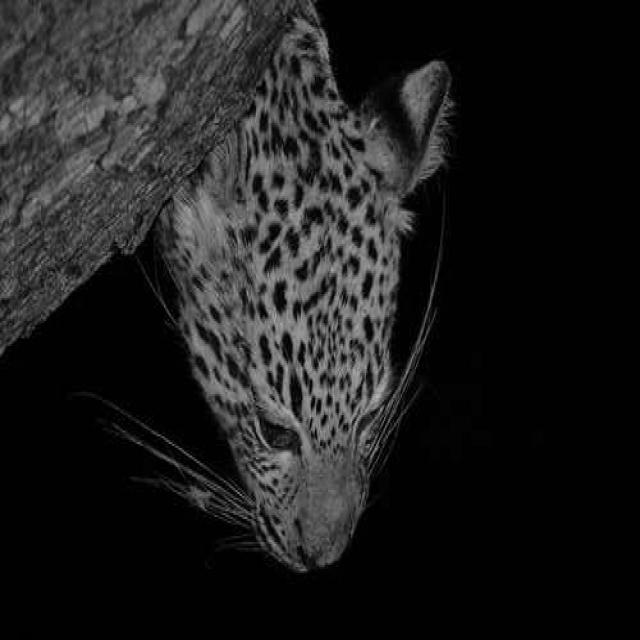Leopard: (72, 0, 456, 575)
